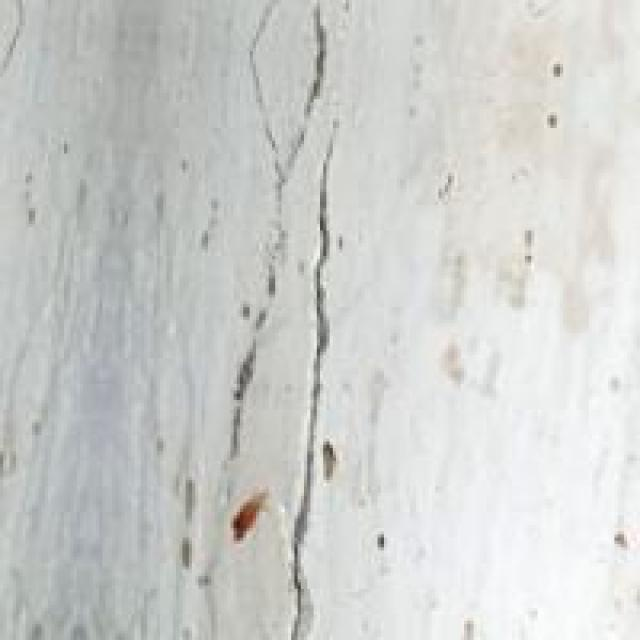Crack: (224, 0, 406, 637)
